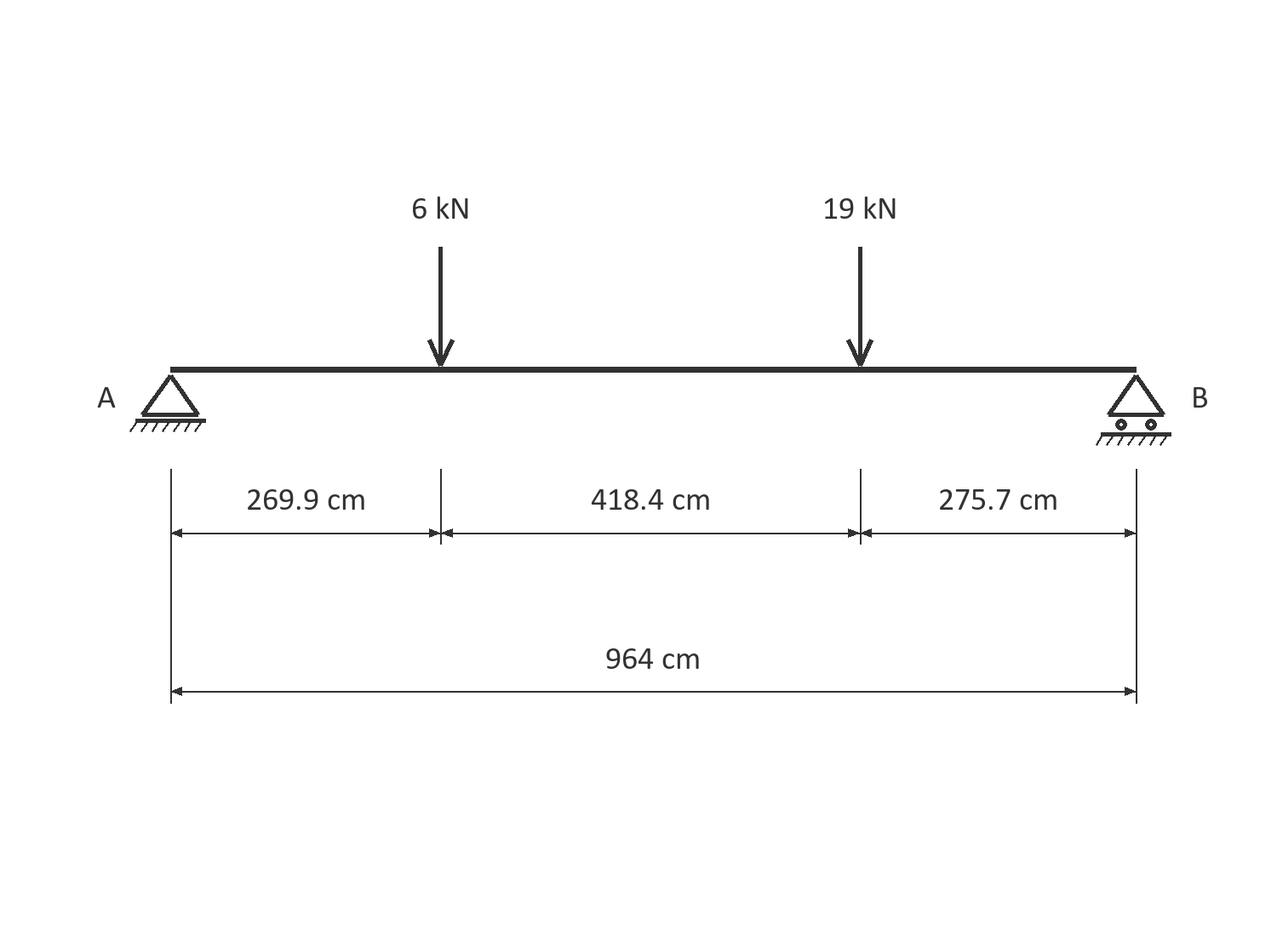pin_support: (129, 374, 206, 432)
point_load: (427, 247, 455, 367), (846, 247, 873, 367)
roller_support: (1096, 374, 1171, 446)
